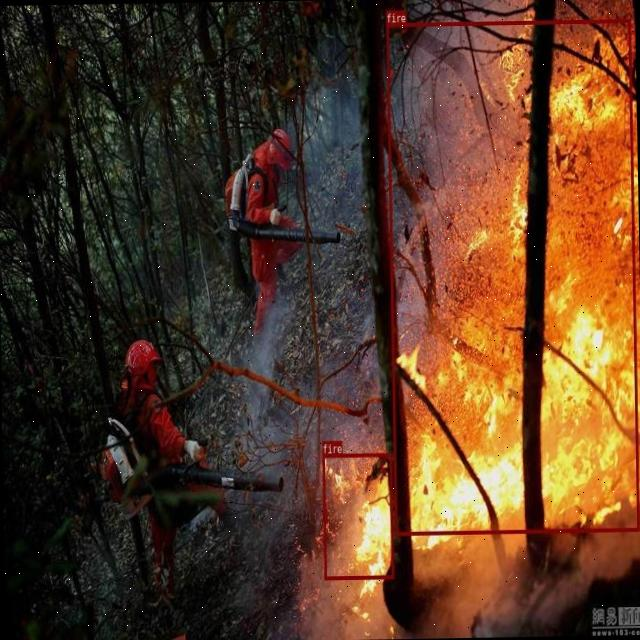fire: (385, 19, 639, 534), (322, 452, 394, 578)
